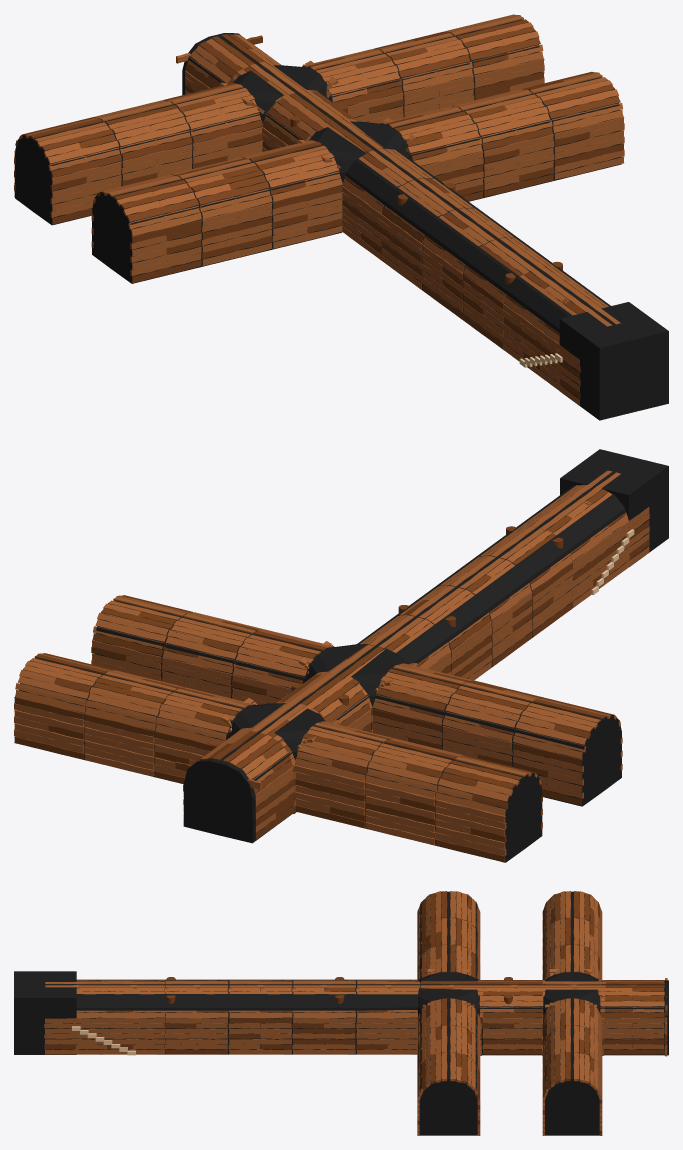
File: poraotaverna (1).fbx
3 renders of one model, top to bottom at view 1: azimuth 30°, elevation 25°; view 2: azimuth 150°, elevation 25°; view 3: azimuth 270°, elevation 25°, orthographic. The views are drawn at different scales.
Visible parts, largest first — view 1: Cube.005, Cube.006, Cube.004, Cube, Cube.008, Cube.012, Cube.010, Cube.001, Cube.007, Cube.003, Cube.011; view 2: Cube.006, Cube.005, Cube, Cube.004, Cube.008, Cube.001, Cube.010, Cube.012, Cube.007, Cube.003, Cube.011; view 3: Cube.004, Cube, Cube.005, Cube.006, Cube.001, Cube.007, Cube.010, Cube.012, Cube.011, Cube.003, Cube.008.
Part boxes in pixels (left/top/right/bottom): Cube.005: left=91, top=71, right=624, bottom=283; Cube.006: left=14, top=14, right=544, bottom=224; Cube.004: left=342, top=148, right=554, bottom=349; Cube: left=182, top=33, right=558, bottom=342; Cube.008: left=15, top=88, right=341, bottom=283; Cube.012: left=559, top=302, right=668, bottom=420; Cube.010: left=503, top=267, right=620, bottom=405; Cube.001: left=185, top=34, right=355, bottom=151; Cube.007: left=303, top=19, right=621, bottom=201; Cube.003: left=219, top=60, right=416, bottom=169; Cube.011: left=503, top=267, right=610, bottom=383; Cube.006: left=14, top=653, right=542, bottom=862; Cube.005: left=91, top=595, right=622, bottom=805; Cube: left=183, top=526, right=572, bottom=843; Cube.004: left=360, top=526, right=573, bottom=680; Cube.008: left=297, top=668, right=621, bottom=862; Cube.001: left=192, top=673, right=371, bottom=839; Cube.010: left=520, top=470, right=649, bottom=607; Cube.012: left=560, top=449, right=668, bottom=566; Cube.007: left=19, top=600, right=334, bottom=777; Cube.003: left=221, top=641, right=417, bottom=813; Cube.011: left=517, top=485, right=628, bottom=607; Cube.004: left=165, top=980, right=419, bottom=1054; Cube: left=164, top=972, right=668, bottom=1055; Cube.005: left=417, top=891, right=480, bottom=1135; Cube.006: left=542, top=891, right=602, bottom=1135; Cube.001: left=482, top=980, right=664, bottom=1054; Cube.007: left=419, top=998, right=599, bottom=1135; Cube.010: left=44, top=980, right=165, bottom=1054; Cube.012: left=14, top=971, right=76, bottom=1054; Cube.011: left=76, top=979, right=165, bottom=1054; Cube.003: left=420, top=969, right=605, bottom=1055; Cube.008: left=420, top=891, right=589, bottom=978.
Bounding box in the file's own units: 1421 × 205 × 2086.
